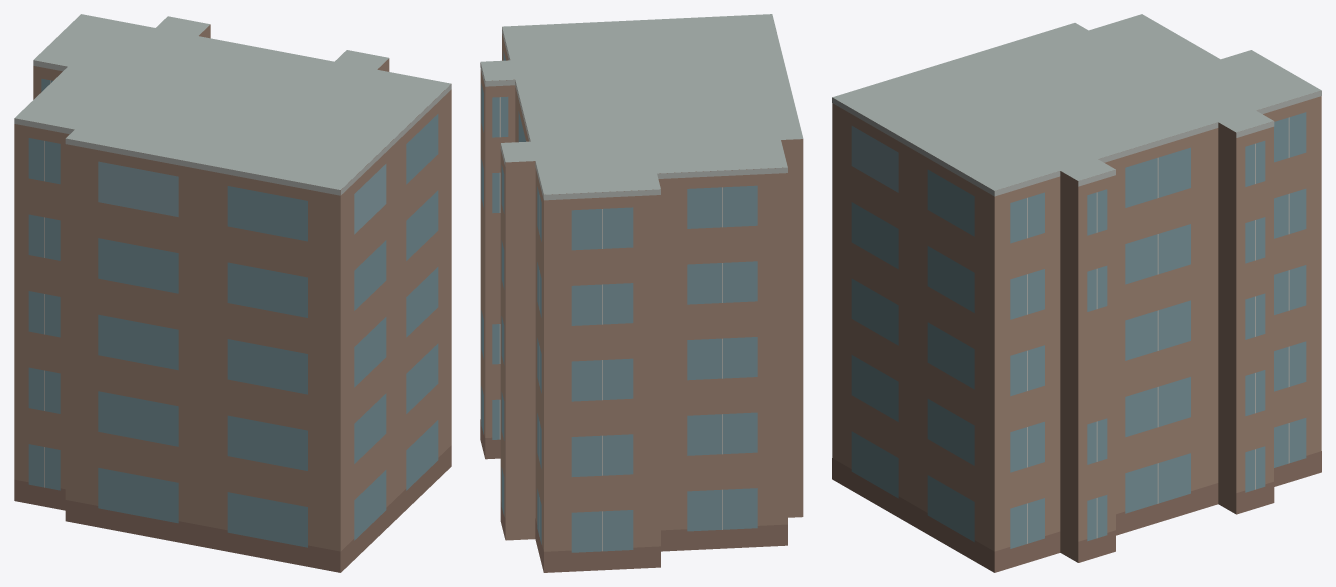
Rendered from survey-upis-32713477.glb.
The picture shows the model from 3 angles, left to right: view 1: azimuth 30°, elevation 25°; view 2: azimuth 150°, elevation 25°; view 3: azimuth 270°, elevation 25°; orthographic projection.
Parts seen in each view (by area): view 1: survey-upis-32713477.tmp; view 2: survey-upis-32713477.tmp; view 3: survey-upis-32713477.tmp.
Part boxes in pixels (x1=…): survey-upis-32713477.tmp: x1=14, y1=14, x2=451, y2=572; survey-upis-32713477.tmp: x1=480, y1=14, x2=803, y2=572; survey-upis-32713477.tmp: x1=832, y1=14, x2=1321, y2=572.
Size of the model in its own units: 16.5 by 16.6 by 19.29.
